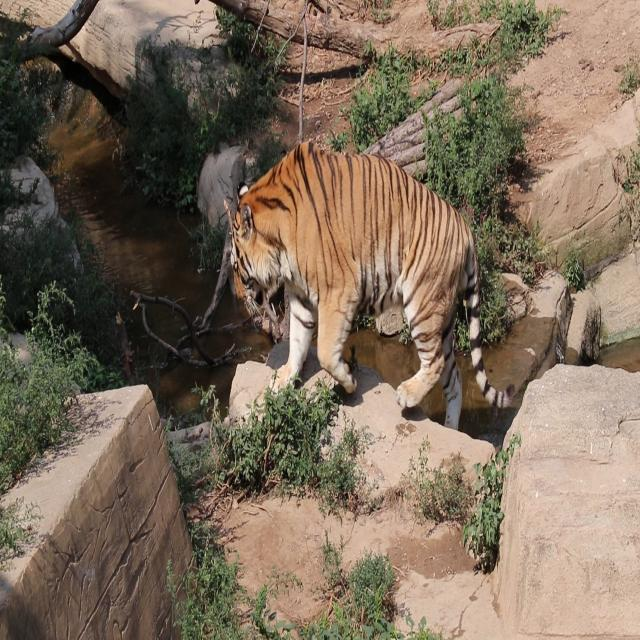Tiger: (222, 105, 522, 479)
